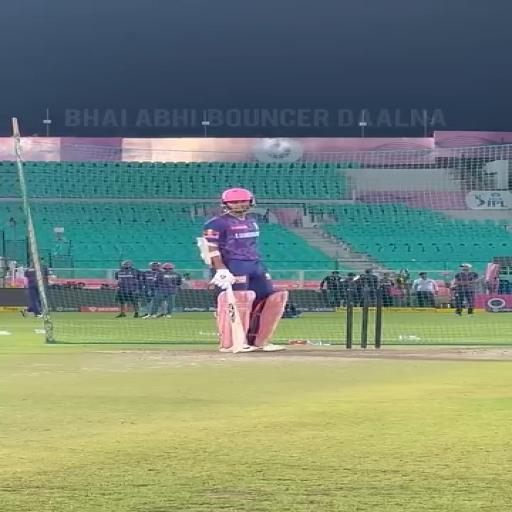Cricket bat: (228, 288, 245, 353)
